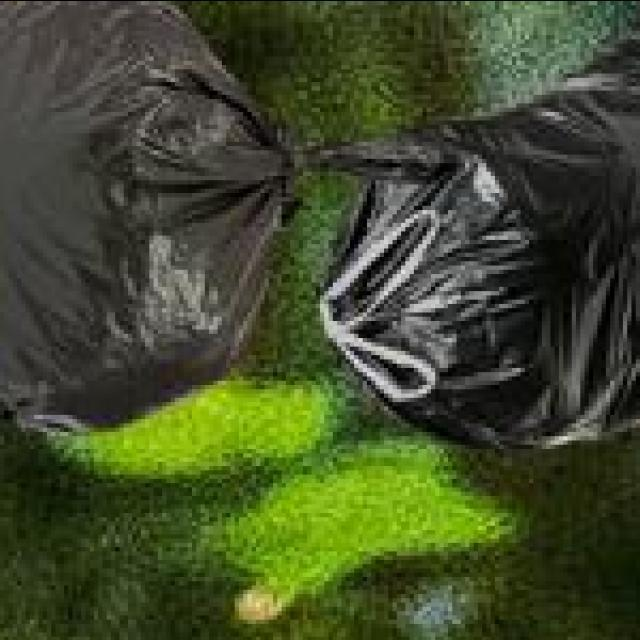Trashbag: (323, 17, 640, 454), (0, 0, 300, 443)
